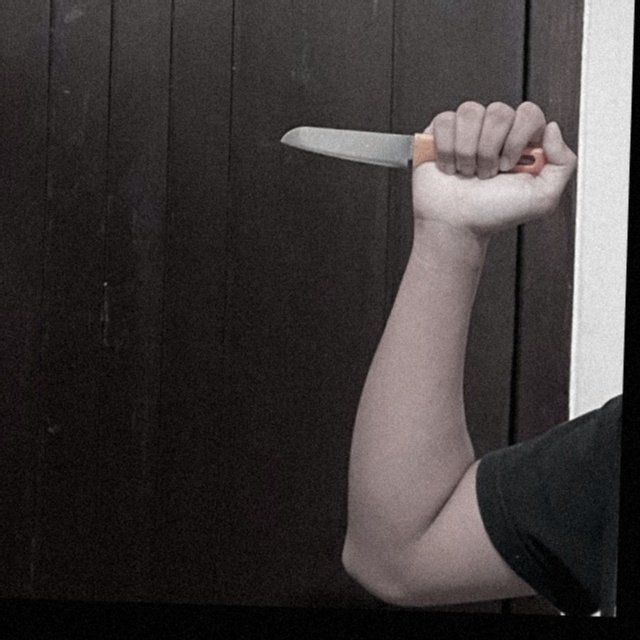Sharp-Object: (277, 120, 561, 180)
